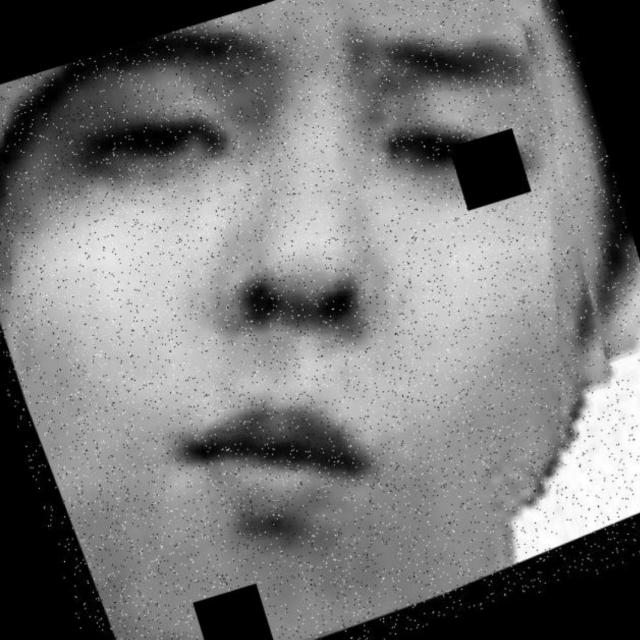Natural: (60, 37, 570, 640)
